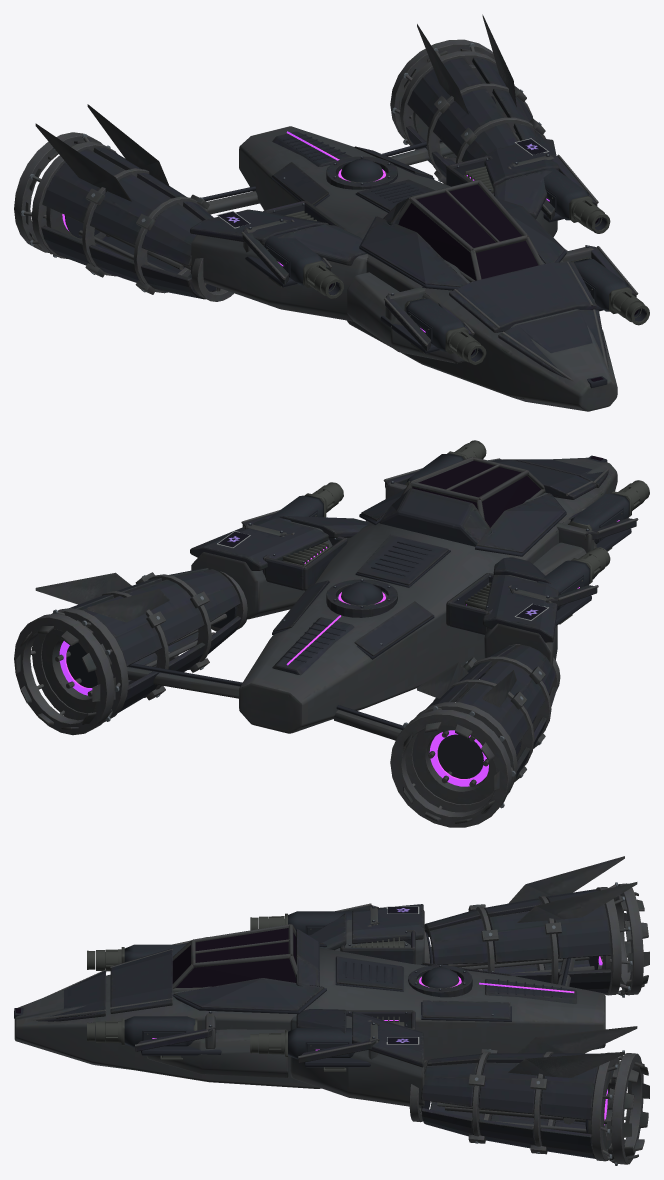
The model's file is eris-schiff2.glb.
3 renders of one model, top to bottom at view 1: azimuth 30°, elevation 25°; view 2: azimuth 150°, elevation 25°; view 3: azimuth 270°, elevation 25°, orthographic. The views are drawn at different scales.
Visible parts, largest first — view 1: Hull_eris_Armor, Hull_eris_BrushedAlloy, Hull_eris_EdgeGuards, Generator_01_Geometry, Laser_01_Geometry, Generator_03_Geometry; view 2: Hull_eris_BrushedAlloy, Hull_eris_Armor, Hull_eris_EdgeGuards, Generator_01_Geometry, Generator_03_Geometry, Laser_01_Geometry; view 3: Hull_eris_Armor, Hull_eris_BrushedAlloy, Hull_eris_EdgeGuards, Generator_01_Geometry, Generator_03_Geometry, Laser_01_Geometry.
Boxes of the visible parts, <box> form: Hull_eris_Armor: <box>41,57,636,377</box>; Hull_eris_BrushedAlloy: <box>25,14,617,411</box>; Hull_eris_EdgeGuards: <box>14,39,638,381</box>; Generator_01_Geometry: <box>20,43,649,388</box>; Laser_01_Geometry: <box>329,184,638,381</box>; Generator_03_Geometry: <box>263,158,628,351</box>; Hull_eris_BrushedAlloy: <box>16,457,617,823</box>; Hull_eris_Armor: <box>69,459,636,777</box>; Hull_eris_EdgeGuards: <box>14,458,638,827</box>; Generator_01_Geometry: <box>30,440,649,808</box>; Generator_03_Geometry: <box>269,453,629,610</box>; Laser_01_Geometry: <box>412,456,603,527</box>; Hull_eris_Armor: <box>36,889,611,1158</box>; Hull_eris_BrushedAlloy: <box>14,856,649,1162</box>; Hull_eris_EdgeGuards: <box>31,883,643,1164</box>; Generator_01_Geometry: <box>14,882,632,1165</box>; Generator_03_Geometry: <box>124,911,459,1059</box>; Laser_01_Geometry: <box>16,928,296,1013</box>.
Bounding box in the file's own units: 13.19 × 3.85 × 16.36.
9 materials, 9 textured.
